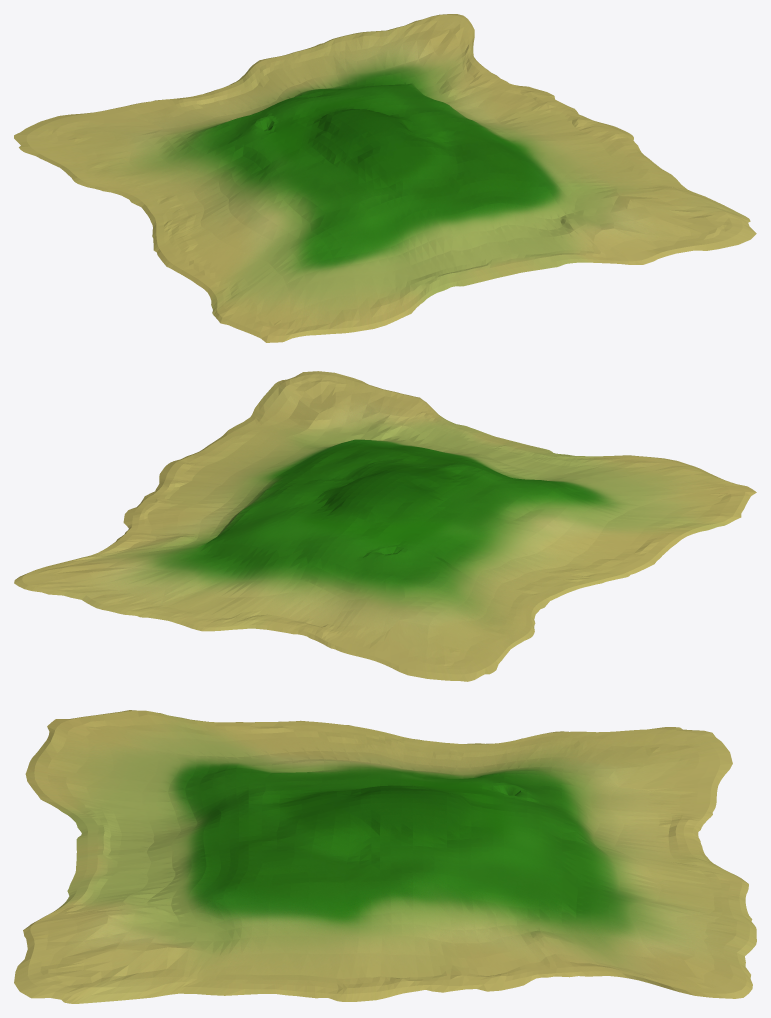
File: Land3.FBX
3 views of the same model, one above another, from view 1: azimuth 30°, elevation 25°; view 2: azimuth 150°, elevation 25°; view 3: azimuth 270°, elevation 25° (orthographic). The views are drawn at different scales.
Visible parts, largest first — view 1: Object016; view 2: Object016; view 3: Object016.
Part boxes in pixels (left/top/right/bottom): Object016: left=14, top=14, right=756, bottom=342; Object016: left=14, top=371, right=756, bottom=681; Object016: left=14, top=710, right=756, bottom=1003.
Bounding box in the file's own units: 26567 × 2733 × 28458.
Materials: 1 (1 with a texture image).
